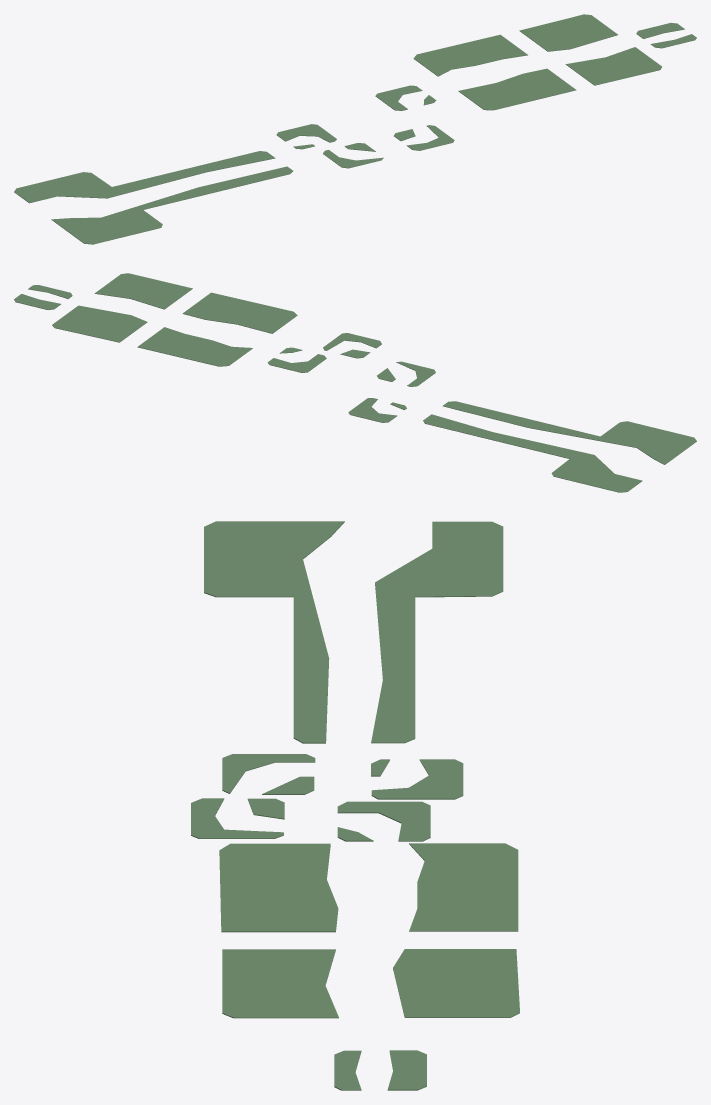
The model's file is grass_block_4.gltf.
3 renders of one model, top to bottom at view 1: azimuth 30°, elevation 25°; view 2: azimuth 150°, elevation 25°; view 3: azimuth 270°, elevation 25°, orthographic. The views are drawn at different scales.
Parts seen in each view (by area): view 1: Shape 2, Shape, Shape 13, Shape 12, Shape 14, Shape 15, Shape 3, Shape 10, Shape 9, Shape 6, Shape 17; view 2: Shape 2, Shape, Shape 13, Shape 12, Shape 14, Shape 15, Shape 3, Shape 10, Shape 9, Shape 6, Shape 17; view 3: Shape 2, Shape, Shape 13, Shape 12, Shape 14, Shape 15, Shape 3, Shape 10, Shape 9, Shape 6, Shape 17, Shape 18.
Part boxes in pixels (x1,y1,x2,y2): Shape 2: [51, 166, 292, 244]; Shape: [14, 151, 275, 203]; Shape 13: [458, 68, 576, 110]; Shape 12: [413, 34, 527, 76]; Shape 14: [519, 14, 617, 51]; Shape 15: [565, 47, 661, 85]; Shape 3: [276, 124, 336, 142]; Shape 10: [375, 85, 422, 110]; Shape 9: [406, 125, 454, 150]; Shape 6: [323, 150, 383, 168]; Shape 17: [636, 22, 684, 38]; Shape 2: [443, 401, 696, 464]; Shape: [423, 414, 642, 492]; Shape 13: [182, 292, 297, 333]; Shape 12: [137, 327, 252, 366]; Shape 14: [52, 305, 147, 342]; Shape 15: [94, 273, 192, 309]; Shape 3: [348, 398, 397, 422]; Shape 10: [267, 354, 326, 372]; Shape 9: [323, 333, 381, 350]; Shape 6: [396, 361, 435, 386]; Shape 17: [14, 294, 60, 309]; Shape 2: [204, 521, 344, 743]; Shape: [371, 521, 503, 743]; Shape 13: [219, 843, 338, 932]; Shape 12: [409, 843, 518, 931]; Shape 14: [393, 949, 519, 1017]; Shape 15: [222, 949, 338, 1018]; Shape 3: [371, 759, 463, 799]; Shape 10: [337, 801, 430, 841]; Shape 9: [191, 798, 283, 838]; Shape 6: [222, 754, 315, 793]; Shape 17: [387, 1050, 426, 1090]; Shape 18: [334, 1050, 361, 1090].
Size of the model in its own units: 33.73 by 1.65 by 7.6.
